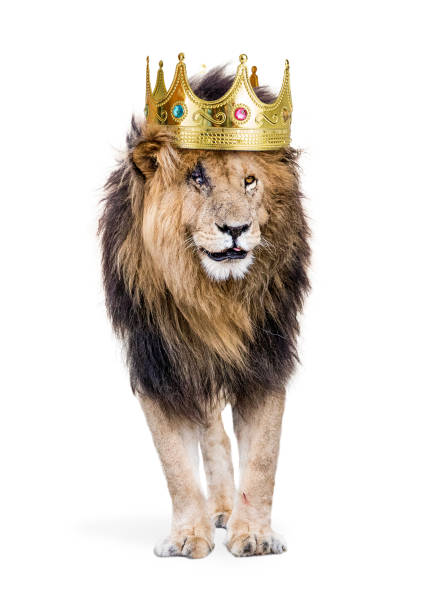lion: (70, 44, 353, 444)
